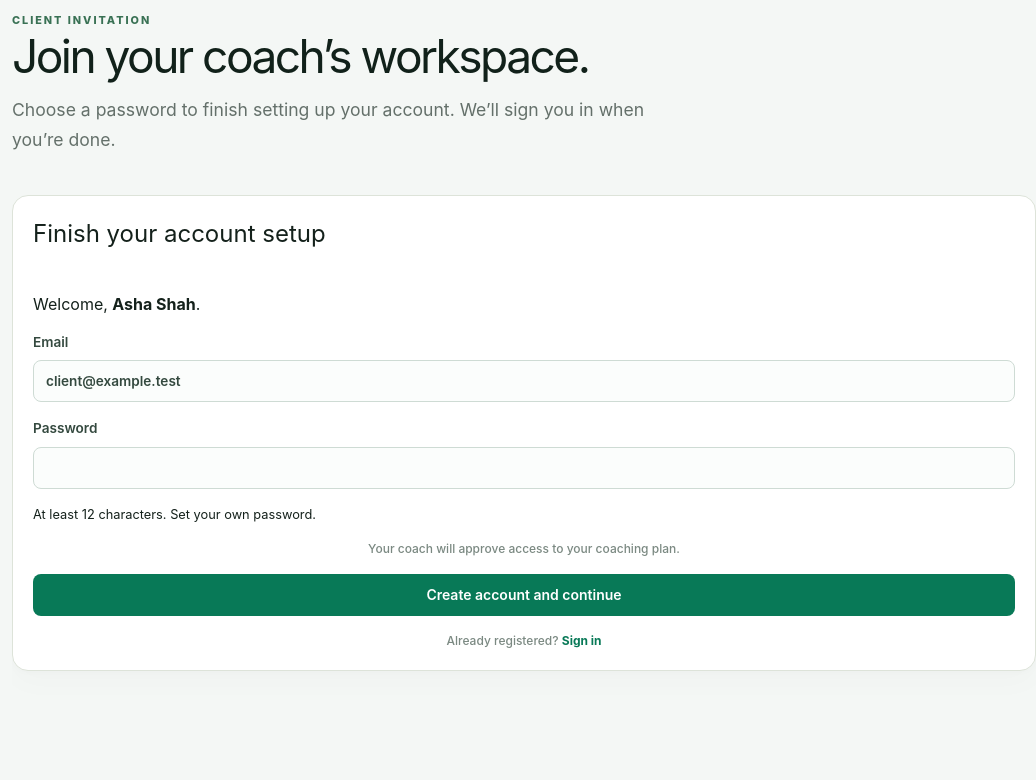
offers sign-in without registering again if account creation succeeds but login fails
Step 1. Type "MyChosenPassword!123" into the password field labelled "Password" → (524, 468), box [33,447,1015,489]
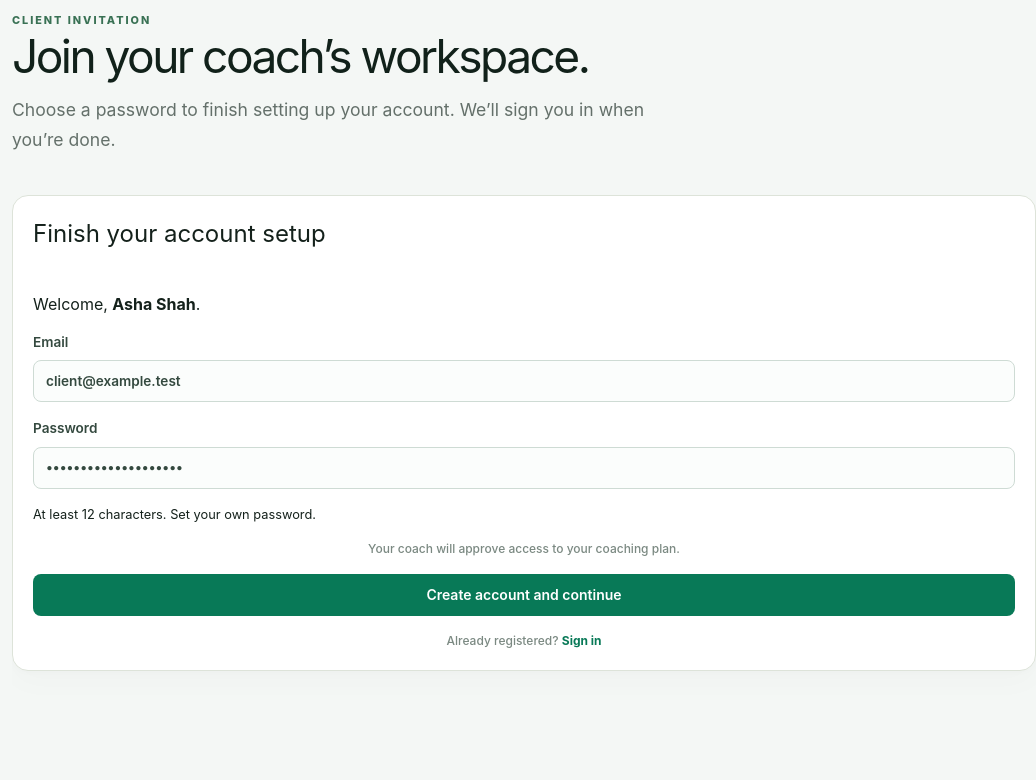
Step 2. Click the button "Create account and continue" → (524, 595), box [33,574,1015,616]
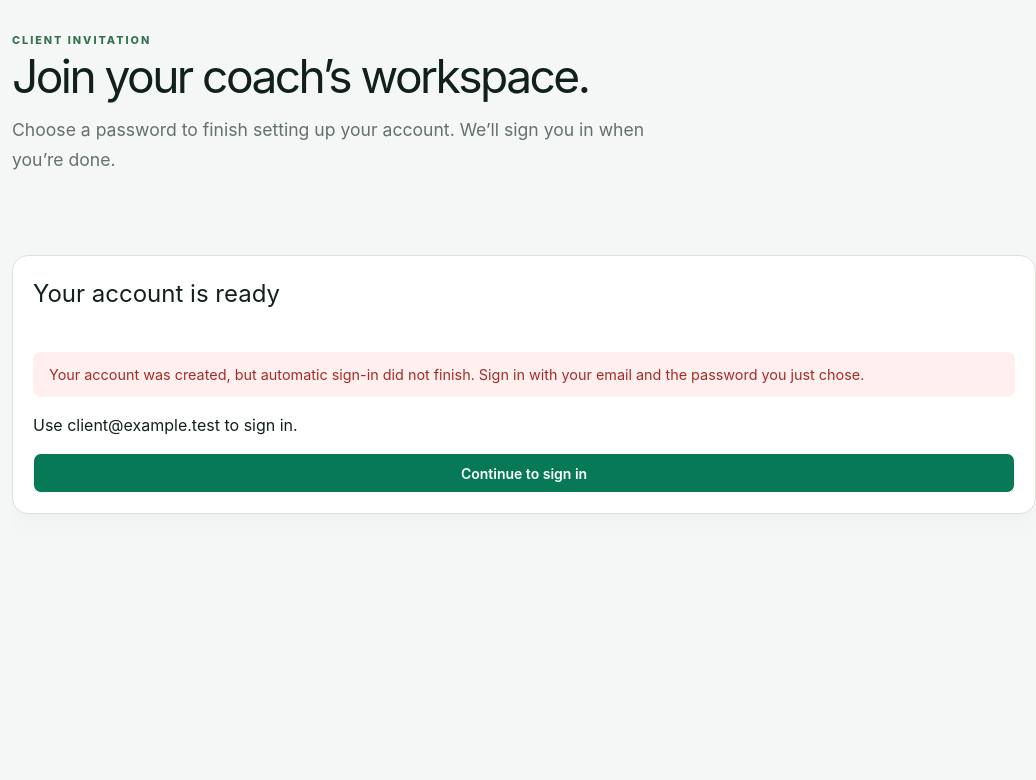
Result: the message shows "Your account was created" at [49,366,864,383]
